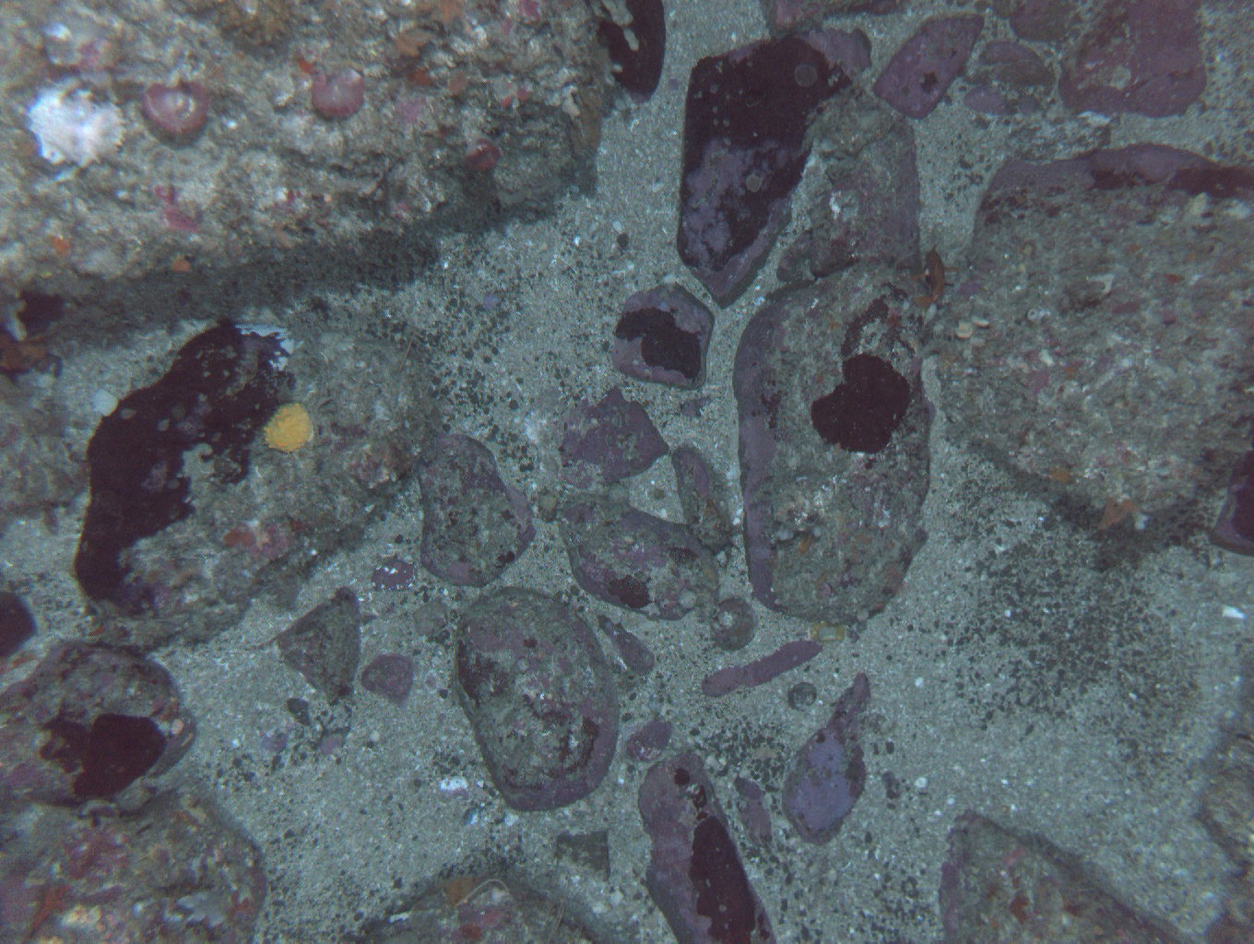Brachionichthyidae: (908, 244, 959, 311)
